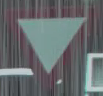Give way: (10, 2, 98, 83)
